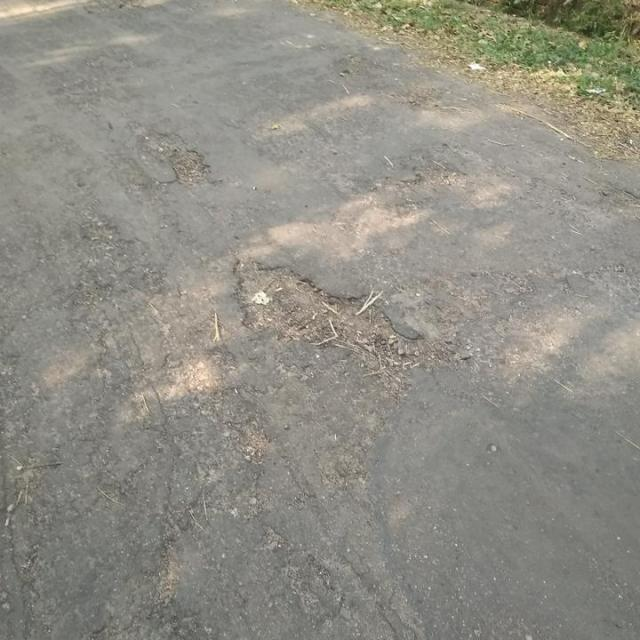pothole: (231, 251, 440, 369), (143, 130, 215, 187), (598, 185, 640, 208)
